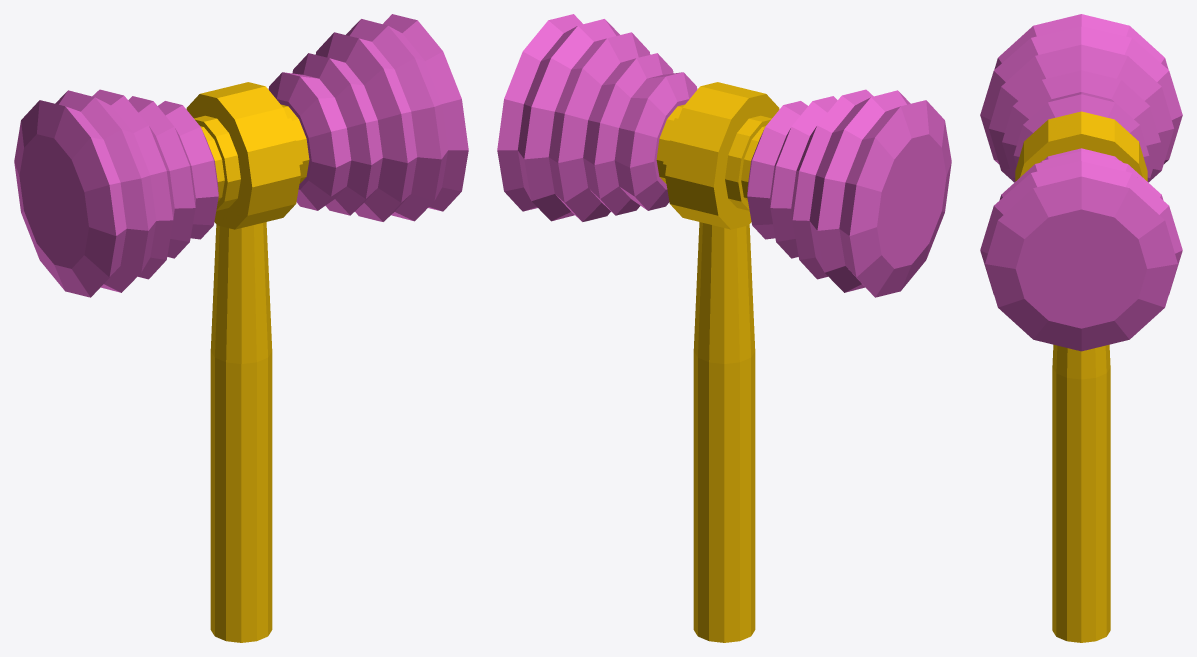
Rendered from Hammer.fbx.
3 views of the same model, side by side, from view 1: azimuth 30°, elevation 25°; view 2: azimuth 150°, elevation 25°; view 3: azimuth 270°, elevation 25° (orthographic). The views are drawn at different scales.
Visible parts, largest first — view 1: Cylinder, Cylinder.001, Cylinder.002; view 2: Cylinder, Cylinder.001, Cylinder.002; view 3: Cylinder.002, Cylinder, Cylinder.001.
Boxes of the visible parts, x1,y1,x2,y2 form: Cylinder: (186, 82, 309, 642); Cylinder.001: (14, 89, 218, 297); Cylinder.002: (268, 14, 468, 221); Cylinder: (656, 82, 779, 642); Cylinder.001: (747, 89, 951, 297); Cylinder.002: (497, 14, 697, 221); Cylinder.002: (980, 148, 1182, 351); Cylinder: (1015, 111, 1147, 642); Cylinder.001: (980, 14, 1182, 182).
Bounding box in the file's own units: 14.05 × 20.39 × 6.97.
